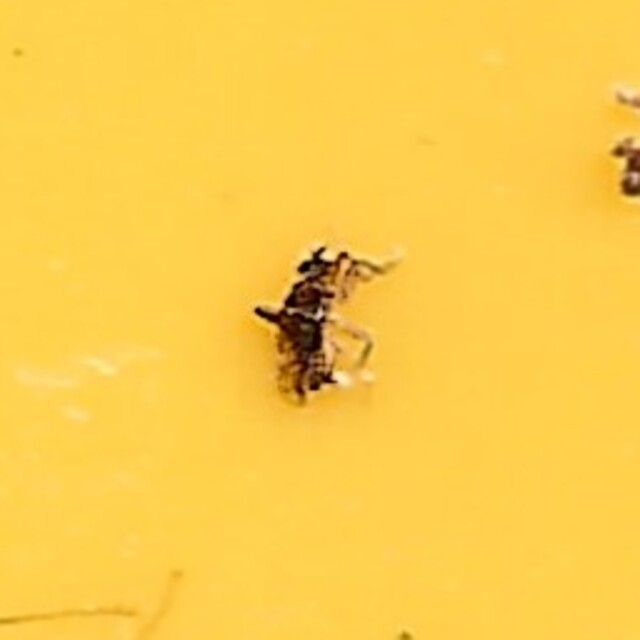Brachycera: (250, 242, 390, 398)
